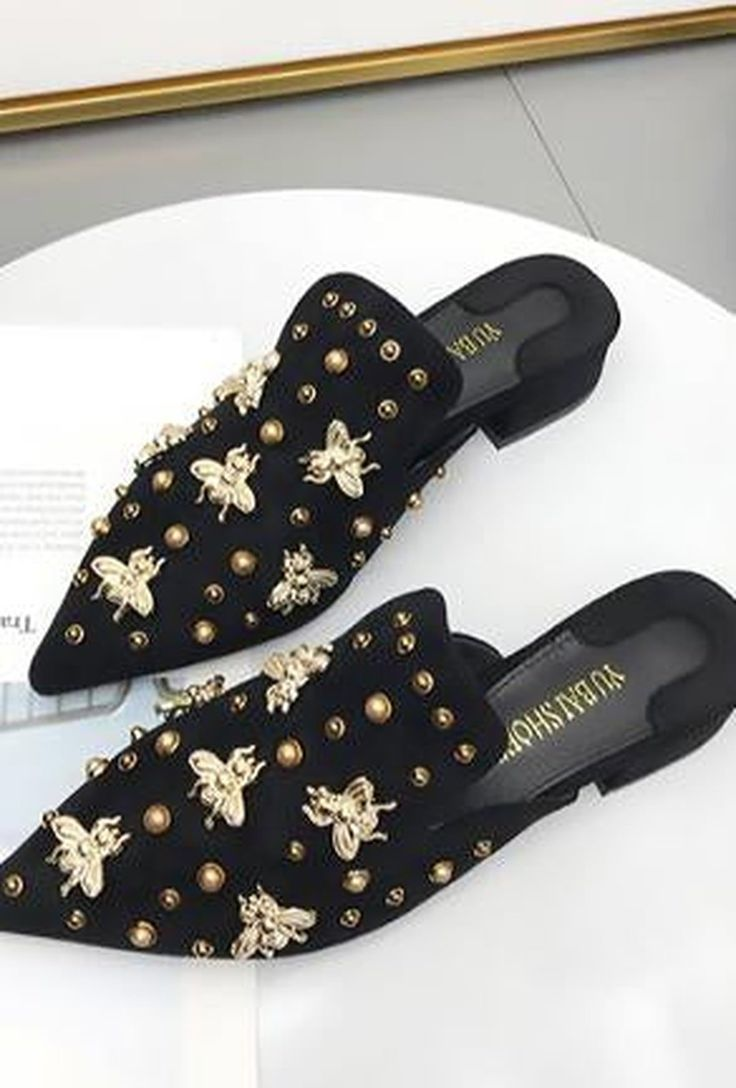gamuza: (1, 272, 584, 962)
